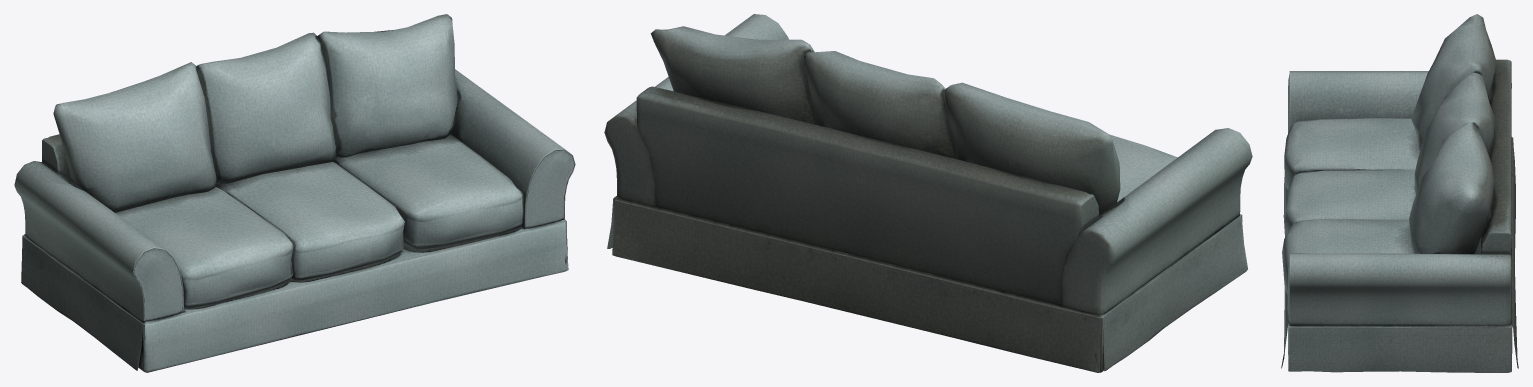
File: silla5.obj
3 views of the same model, side by side, from view 1: azimuth 30°, elevation 25°; view 2: azimuth 150°, elevation 25°; view 3: azimuth 270°, elevation 25° (orthographic). The views are drawn at different scales.
Parts seen in each view (by area): view 1: HSM0012.003; view 2: HSM0012.003; view 3: HSM0012.003.
Part boxes in pixels (x1,y1,x2,y2): HSM0012.003: [14, 14, 575, 372]; HSM0012.003: [604, 14, 1252, 372]; HSM0012.003: [1281, 14, 1518, 372].
Bounding box in the file's own units: 211 × 91.78 × 106.
Materials: 1 (1 with a texture image).
